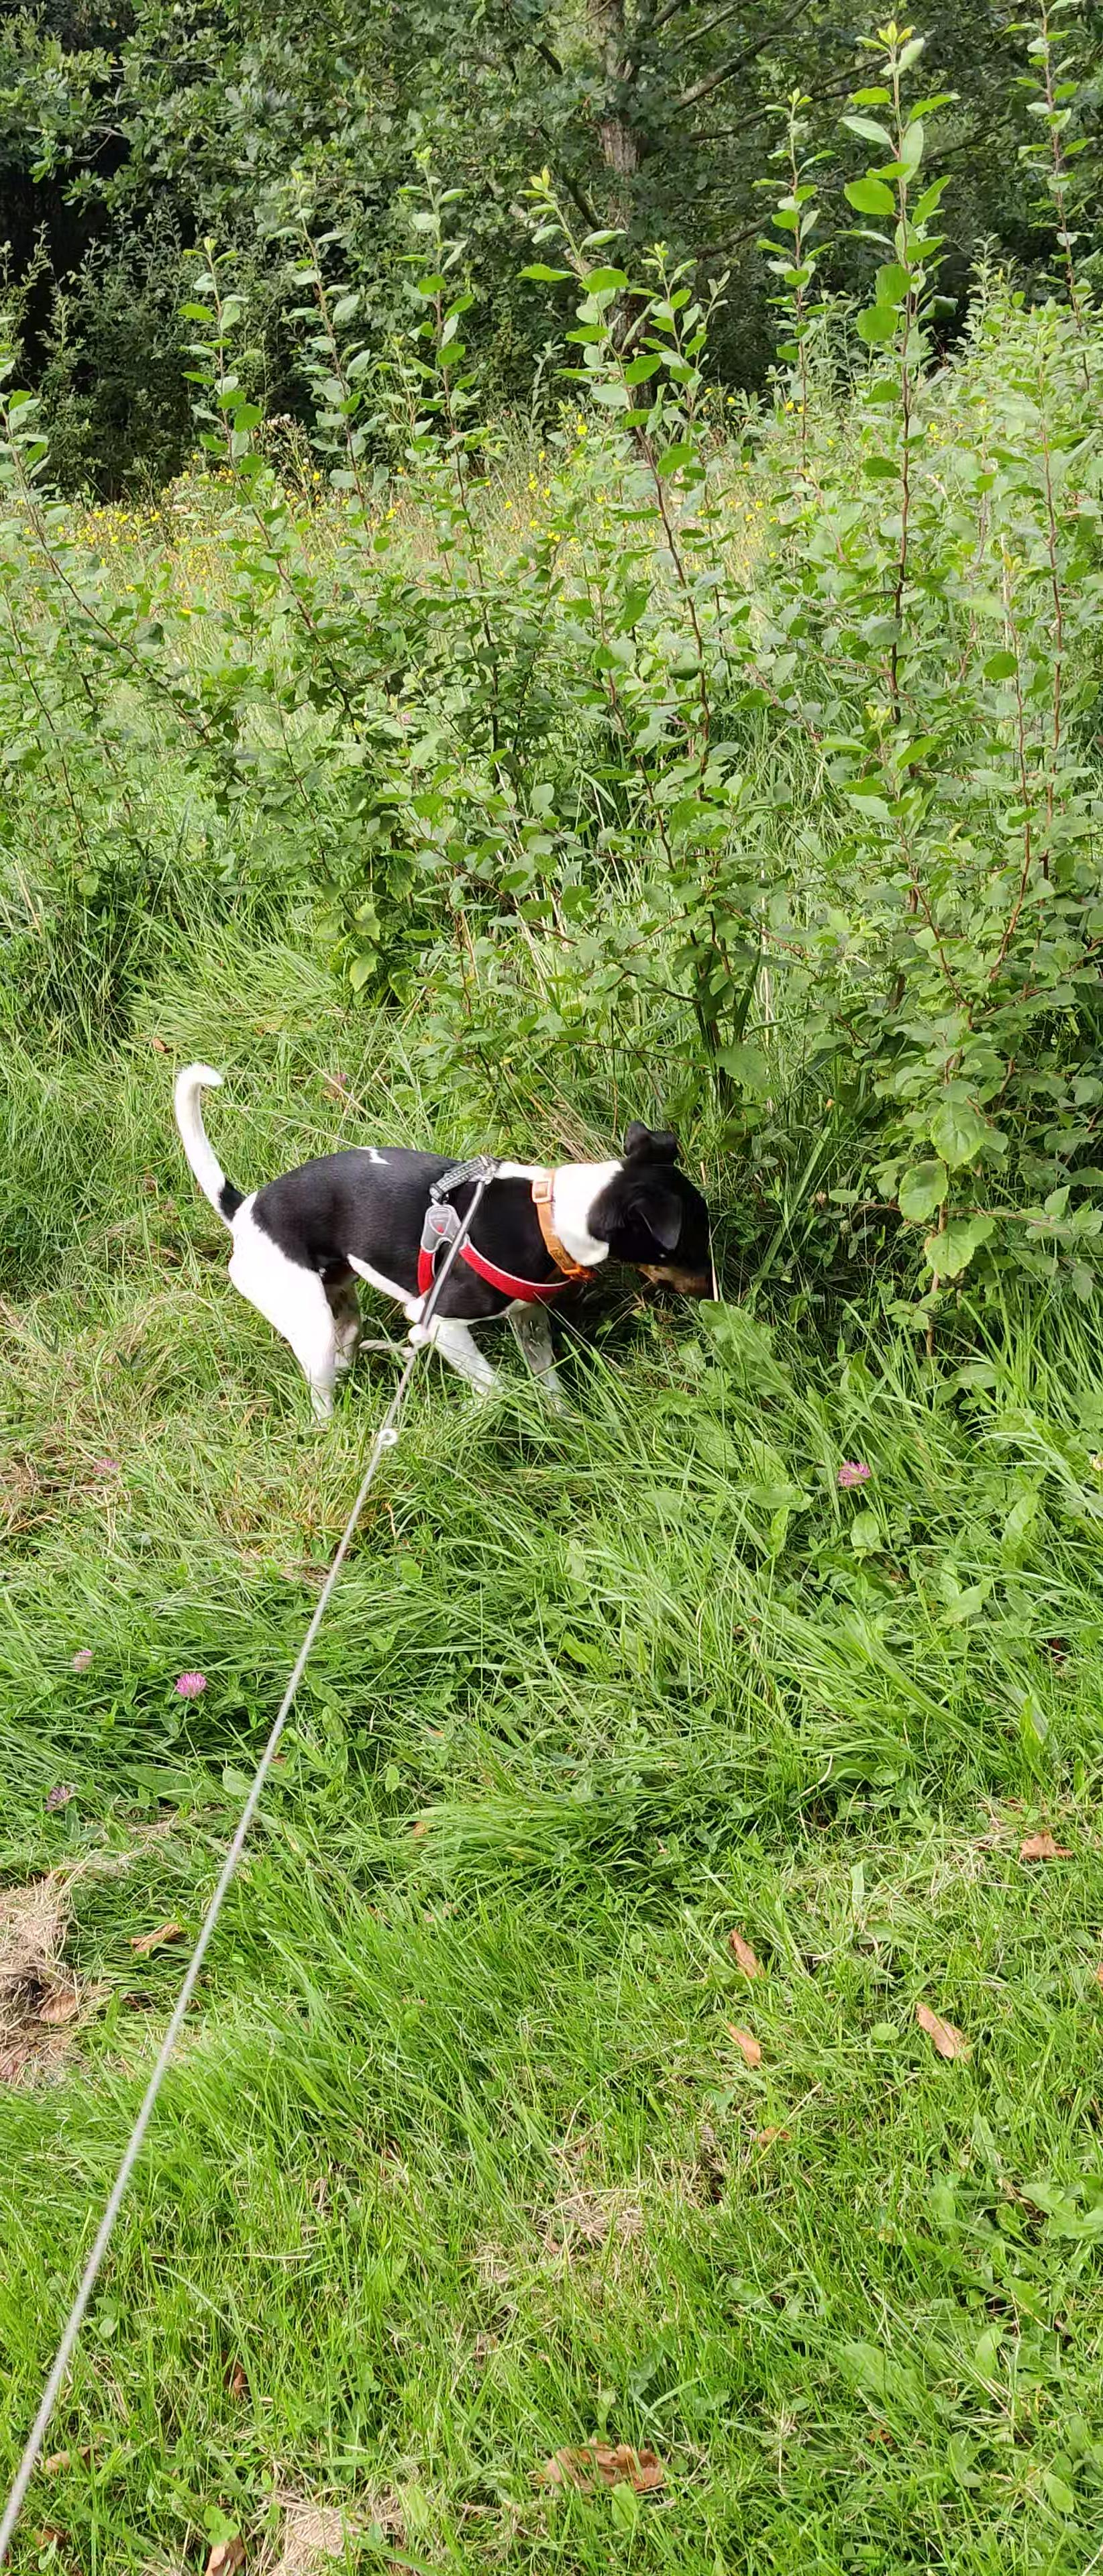Dog: (158, 1050, 736, 1423)
